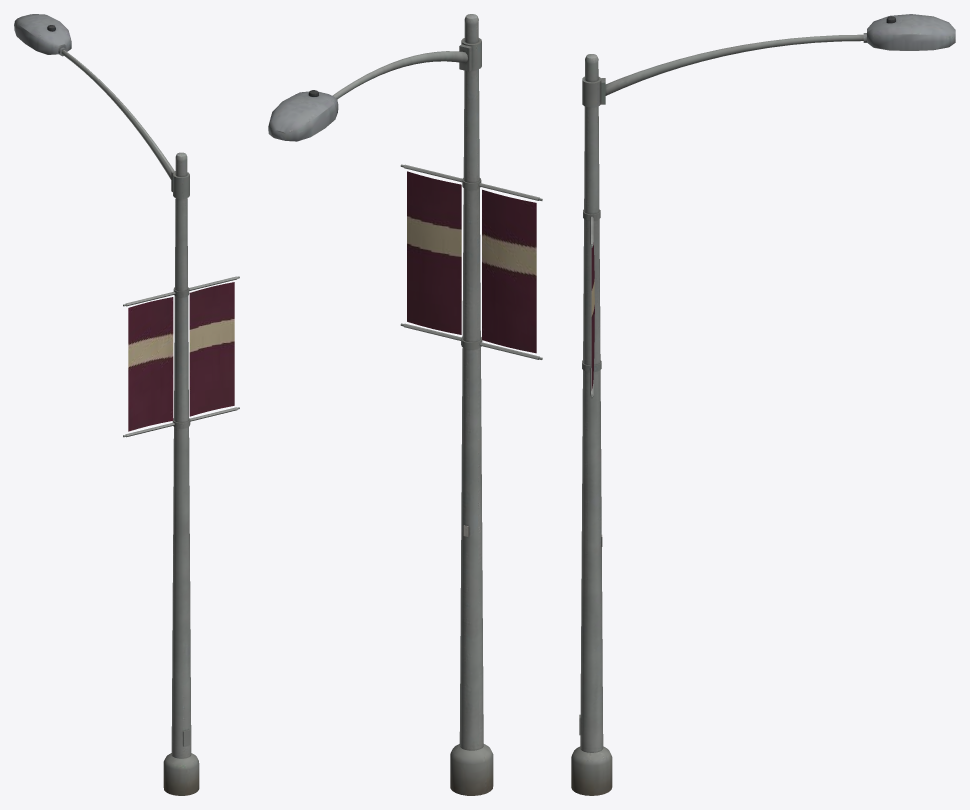
File: lampBanner-v2.glb
3 views of the same model, side by side, from view 1: azimuth 30°, elevation 25°; view 2: azimuth 150°, elevation 25°; view 3: azimuth 270°, elevation 25° (orthographic). The views are drawn at different scales.
Parts seen in each view (by area): view 1: lampBanner; view 2: lampBanner; view 3: lampBanner.
Boxes of the visible parts, x1=… form: lampBanner: x1=14, y1=14, x2=239, y2=795; lampBanner: x1=268, y1=14, x2=542, y2=795; lampBanner: x1=571, y1=14, x2=955, y2=795.
Bounding box in the file's own units: 1.39 × 7.66 × 3.46.
2 materials, 2 textured.
